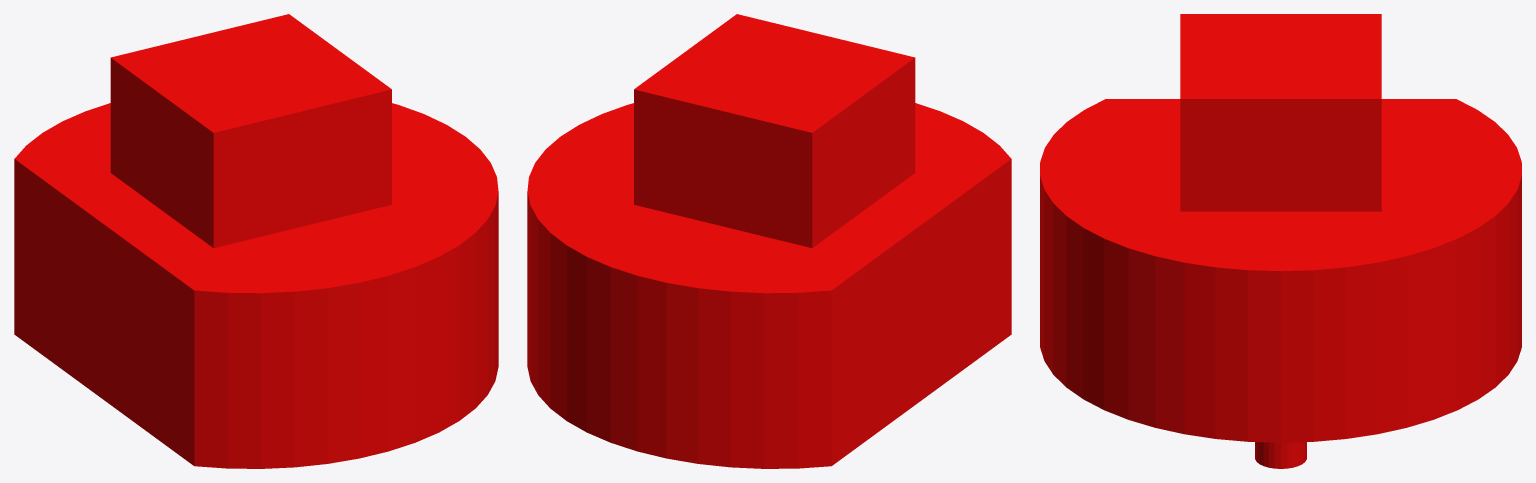
The model's file is chassis_collision.dae.
3 views of the same model, side by side, from view 1: azimuth 30°, elevation 25°; view 2: azimuth 150°, elevation 25°; view 3: azimuth 270°, elevation 25° (orthographic). The views are drawn at different scales.
Parts seen in each view (by area): view 1: node0; view 2: node0; view 3: node0.
Boxes of the visible parts, x1,y1,x2,y2 form: node0: [14, 14, 498, 468]; node0: [527, 14, 1011, 468]; node0: [1040, 14, 1521, 468].
Size of the model in its own units: 0.344 by 0.4071 by 0.295.
